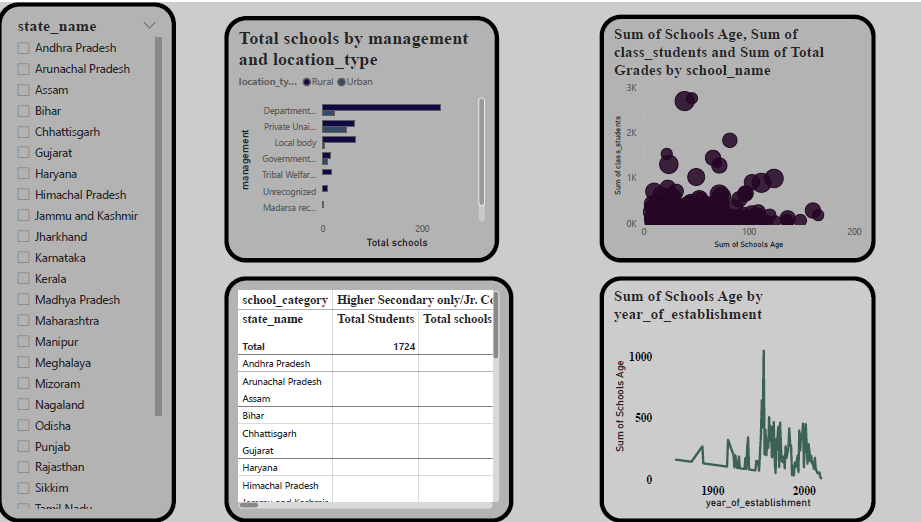

What the dashboard file says about the page in this screenshot:
{"tool":"powerbi","page":{"name":"Page 2","canvas":[1280,720],"ordinal":1},"visuals":[{"type":"clusteredBarChart","fields":{"Category":["SCHOOLS SAMPLE.management"],"Y":["SCHOOLS SAMPLE.Total schools"],"Series":["SCHOOLS SAMPLE.location_type"]},"box":[314.1,19.5,379.5,340.5],"z":0},{"type":"scatterChart","fields":{"X":["Sum(SCHOOLS SAMPLE.Schools Age)"],"Y":["Sum(SCHOOLS SAMPLE.class_students)"],"Category":["SCHOOLS SAMPLE.school_name"],"Size":["Sum(SCHOOLS SAMPLE.Total Grades)"]},"box":[832.6,16.7,382.2,343.3],"z":1000},{"type":"pivotTable","fields":{"Rows":["SCHOOLS SAMPLE.state_name"],"Columns":["SCHOOLS SAMPLE.school_category"],"Values":["SCHOOLS SAMPLE.Total Students","SCHOOLS SAMPLE.Total schools"]},"box":[314.1,379.5,400.3,340.5],"z":2000},{"type":"slicer","fields":{"Values":["SCHOOLS SAMPLE.state_name"]},"box":[0,0,247.4,720],"z":3000},{"type":"lineChart","fields":{"Category":["SCHOOLS SAMPLE.year_of_establishment"],"Y":["Sum(SCHOOLS SAMPLE.Schools Age)"]},"box":[832.6,379.5,382.2,340.5],"z":4000}]}

Visuals, with their boxes in screenshot pixels (x1, y1, x2, y2), scaled from the page's 1280x720 canvas onto the 921x522 screenshot:
clusteredBarChart - SCHOOLS SAMPLE.management x SCHOOLS SAMPLE.Total schools: bbox=[226, 14, 499, 261]
scatterChart - Sum(SCHOOLS SAMPLE.Schools Age) x Sum(SCHOOLS SAMPLE.class_students): bbox=[599, 12, 874, 261]
pivotTable - SCHOOLS SAMPLE.state_name x SCHOOLS SAMPLE.school_category: bbox=[226, 275, 514, 521]
slicer - SCHOOLS SAMPLE.state_name: bbox=[0, 0, 178, 521]
lineChart - SCHOOLS SAMPLE.year_of_establishment x Sum(SCHOOLS SAMPLE.Schools Age): bbox=[599, 275, 874, 521]
